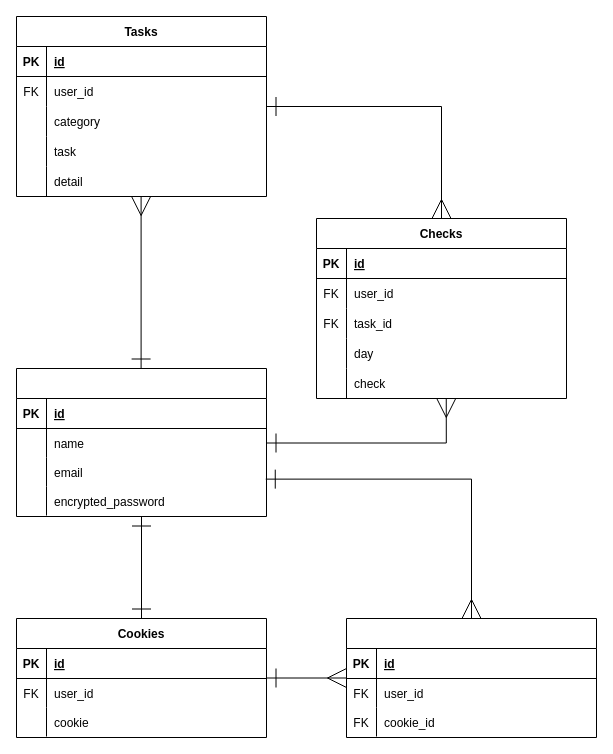
This 613x754 diagram has some shape labels left out. Here are the shapes that lost their labels. From the top down, the box of each, then its label:
(16, 368, 266, 516): Users
(346, 618, 596, 738): Adverts
